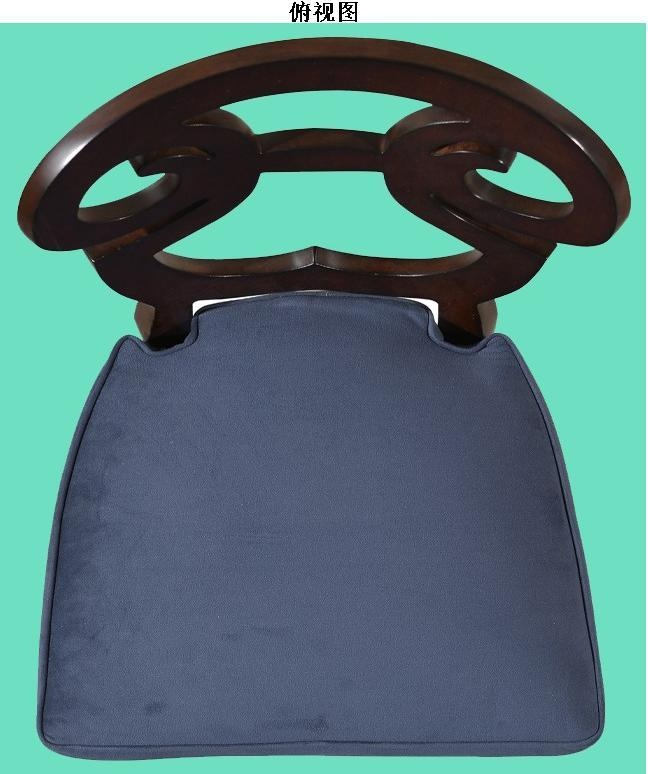obstacle: (18, 38, 629, 758)
